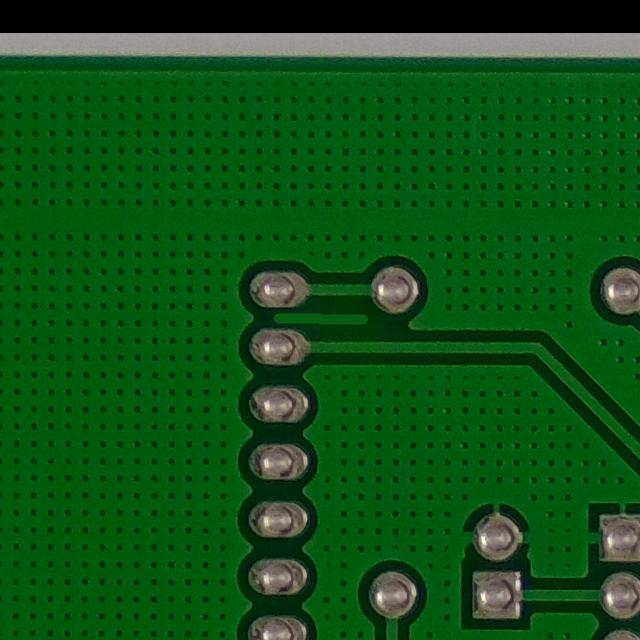spurious_copper: (264, 302, 376, 337)
